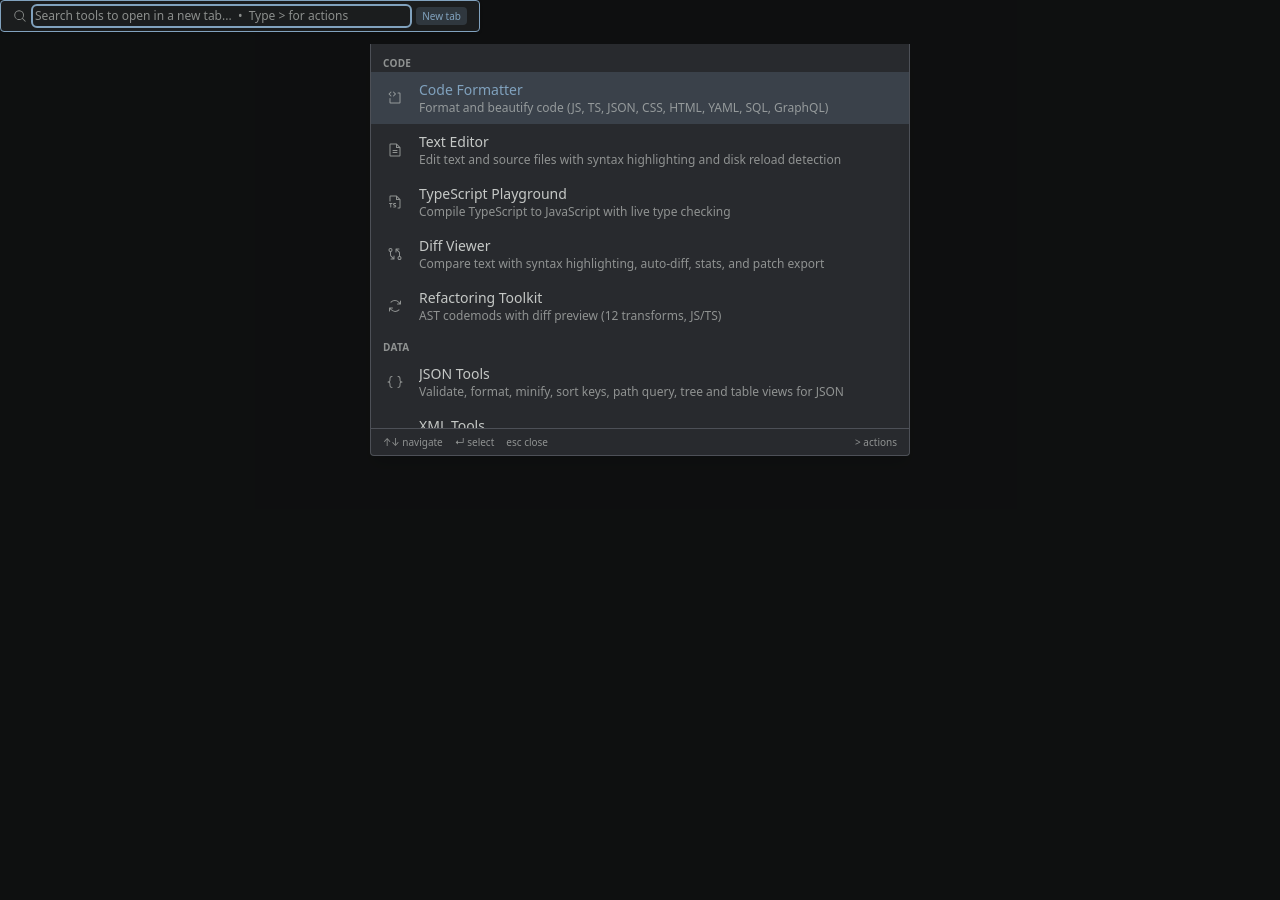
CommandPalette › new-tab intent › gives the action chip precedence over the new-tab chip
Type ">" into the dropdown. click: x=222, y=16
box: [35,8,408,24]
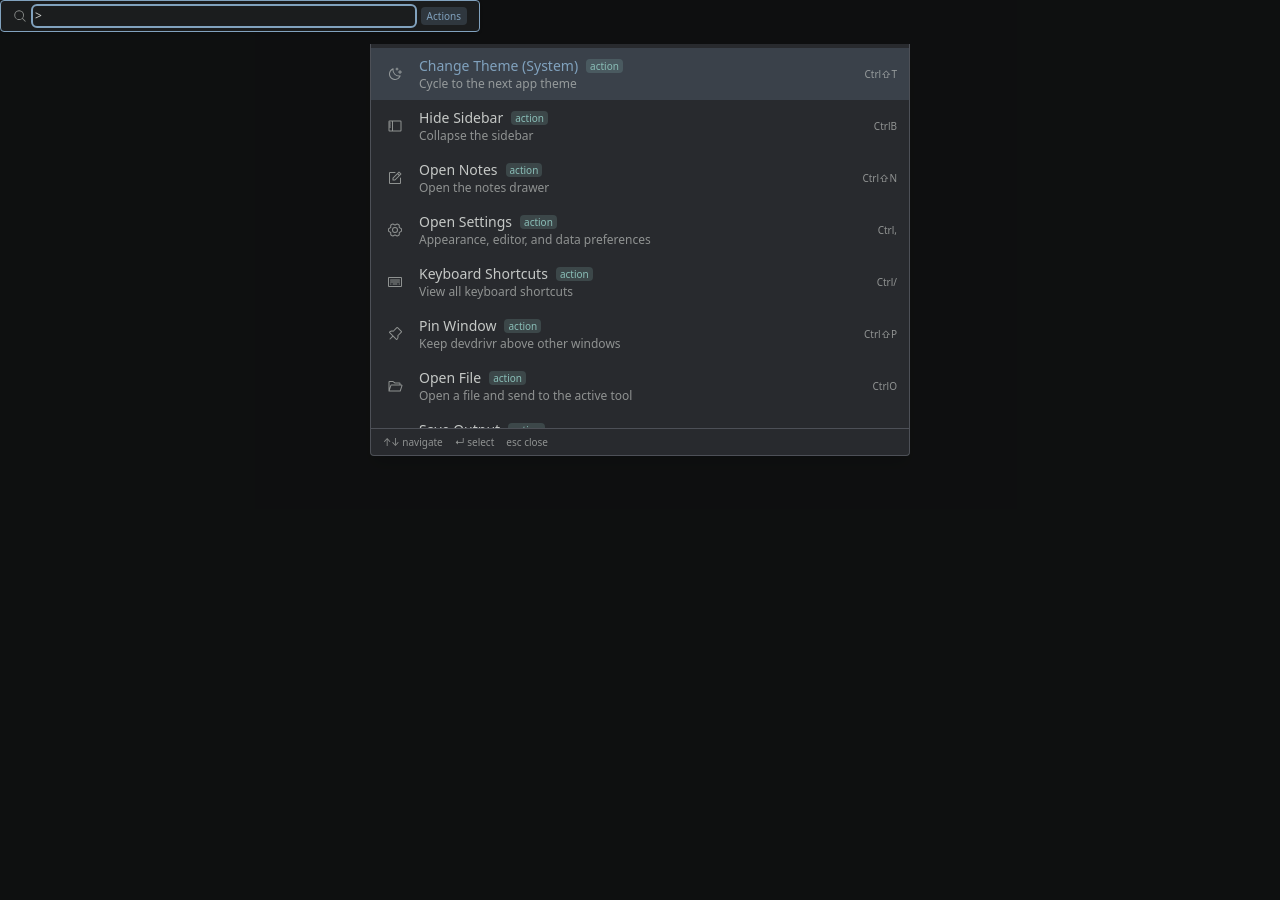
Check: the text "Actions" is shown, box [421,7,467,25]
Check: the text "New tab" is gone
